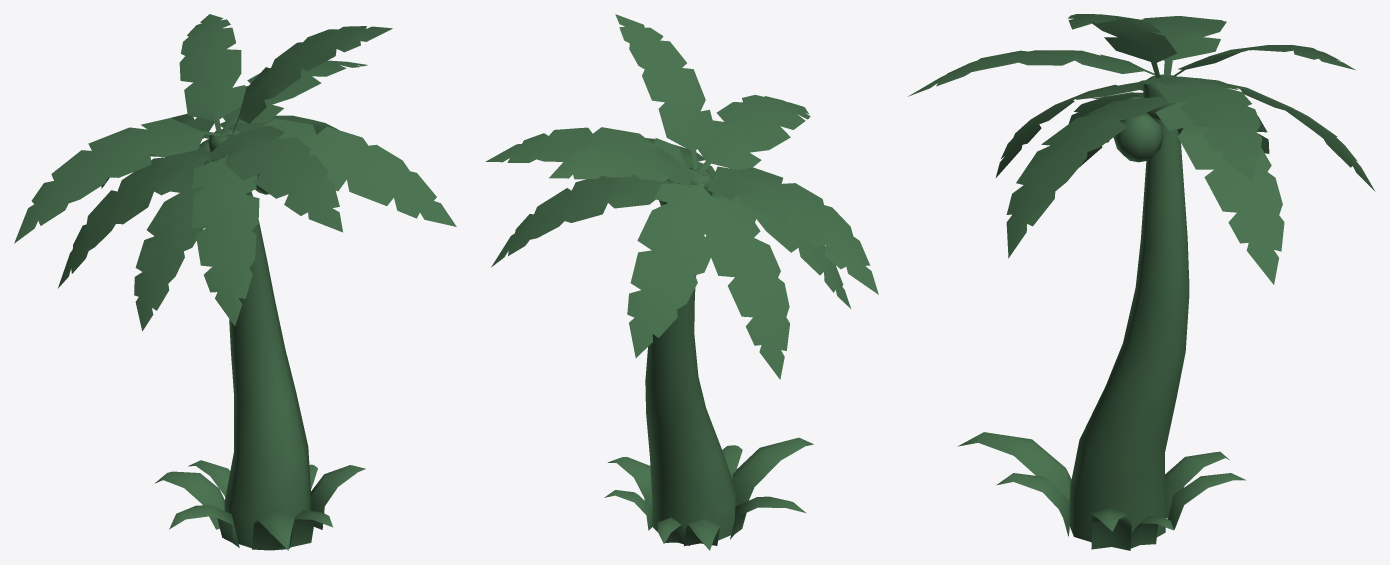
The model's file is S_PalmTree_02.fbx.
3 renders of one model, left to right at view 1: azimuth 30°, elevation 25°; view 2: azimuth 150°, elevation 25°; view 3: azimuth 270°, elevation 25°, orthographic. The views are drawn at different scales.
Parts seen in each view (by area): view 1: S_PalmTree_02; view 2: S_PalmTree_02; view 3: S_PalmTree_02.
Part boxes in pixels (bbox=[...]): S_PalmTree_02: bbox=[14, 14, 456, 550]; S_PalmTree_02: bbox=[485, 14, 878, 550]; S_PalmTree_02: bbox=[908, 14, 1375, 550].
Size of the model in its own units: 12.44 by 15.34 by 11.76.
